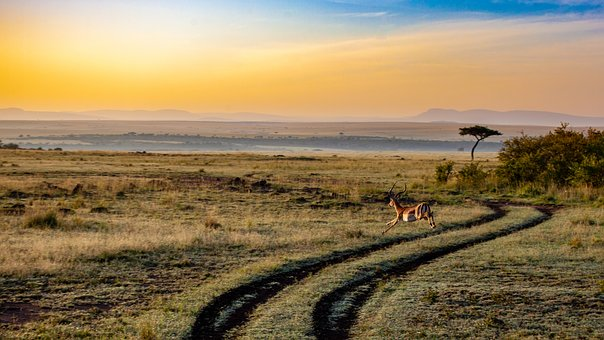field: (11, 148, 604, 335)
sky: (1, 3, 604, 124)
